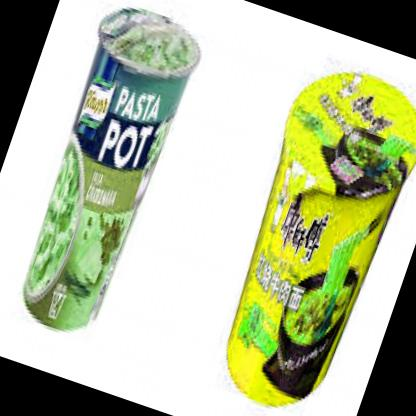Ramen: (202, 55, 416, 416), (5, 0, 210, 337)
